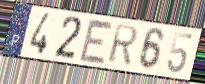2: (52, 14, 83, 61)
4: (27, 11, 52, 56)
5: (166, 30, 194, 74)
6: (137, 26, 166, 72)
E: (78, 17, 115, 66)
R: (106, 23, 140, 66)
